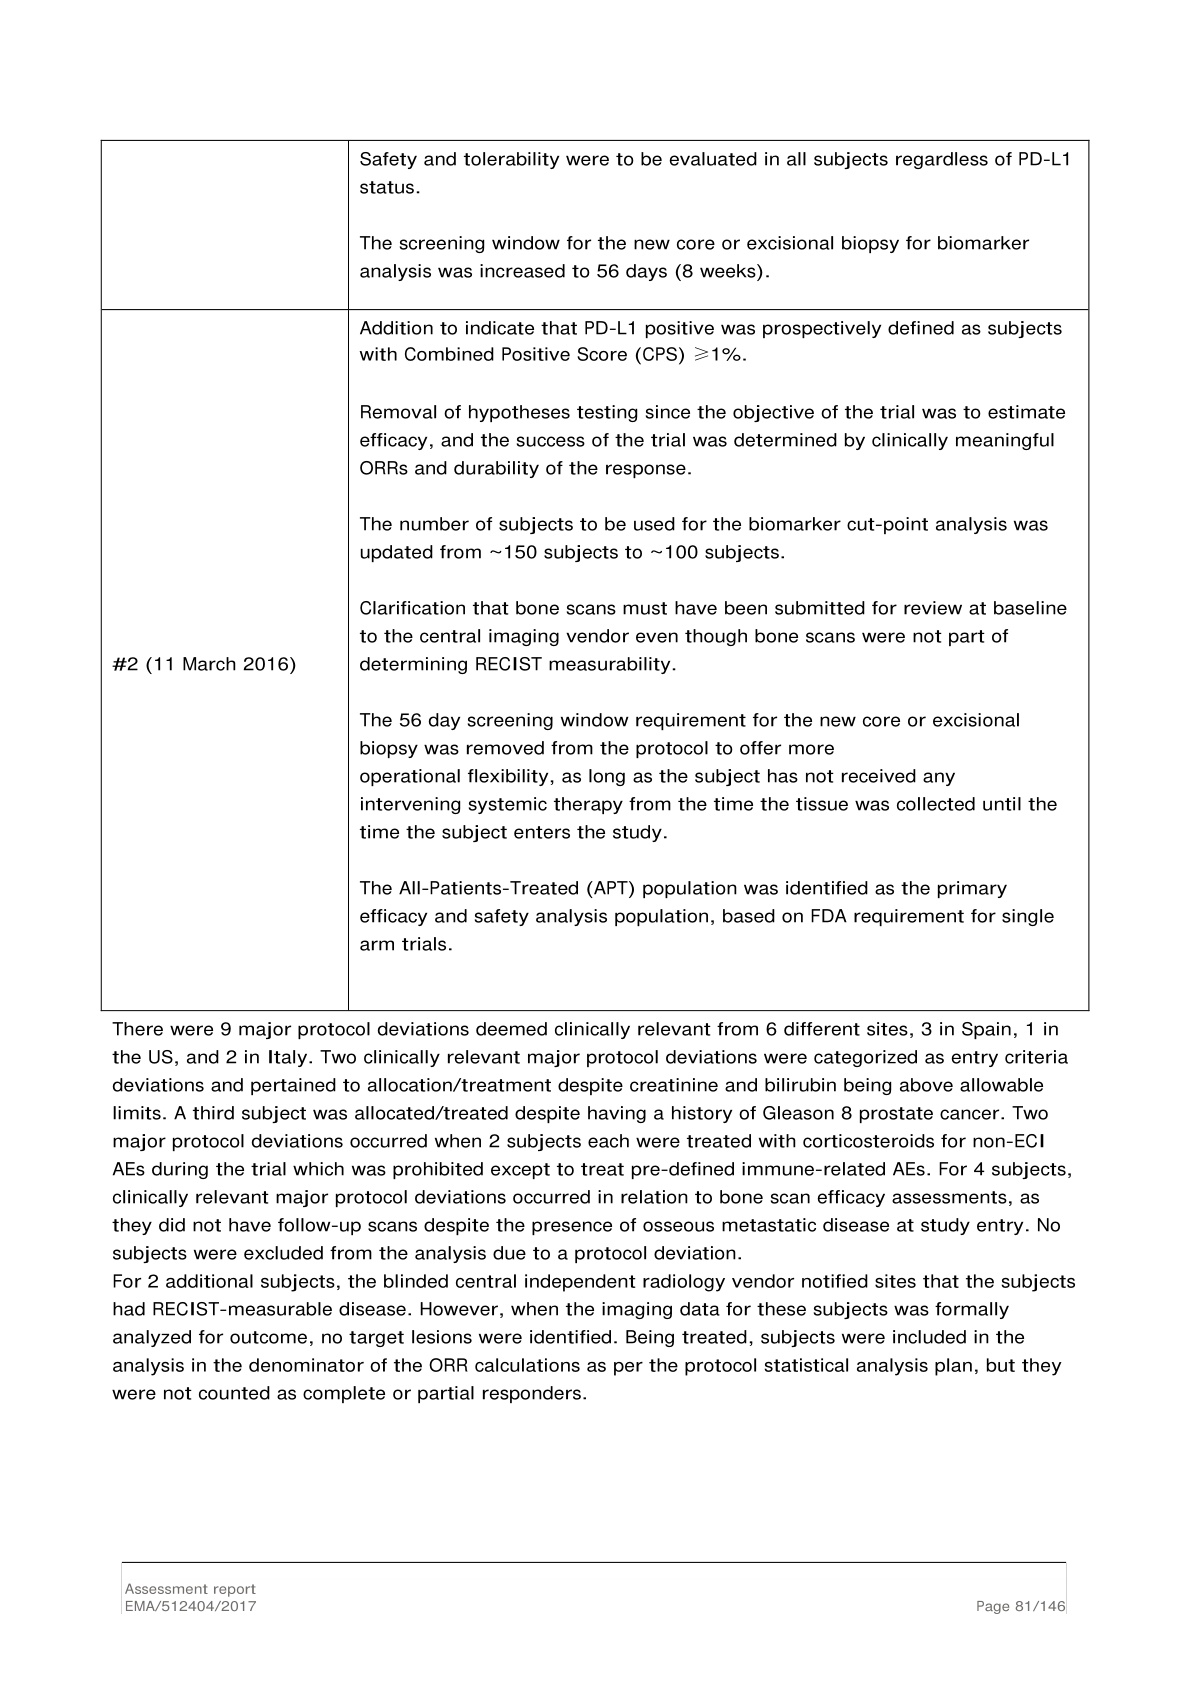full_lined: (100, 138, 1091, 1012)
